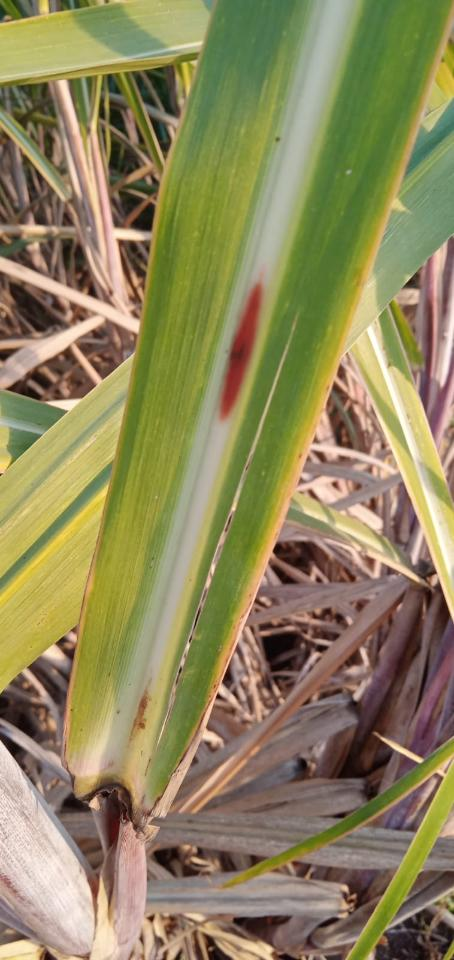RedRot: (219, 281, 263, 424), (127, 677, 153, 749)
